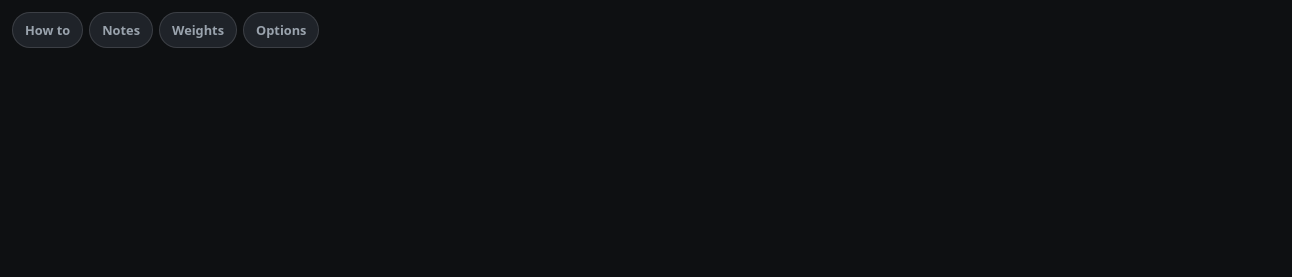
Test: the Plates panel › on a machine on its own says there are no plates to load
Step 1. Click the tab with test id "plates-tab" → click(198, 30), box [159, 12, 237, 48]
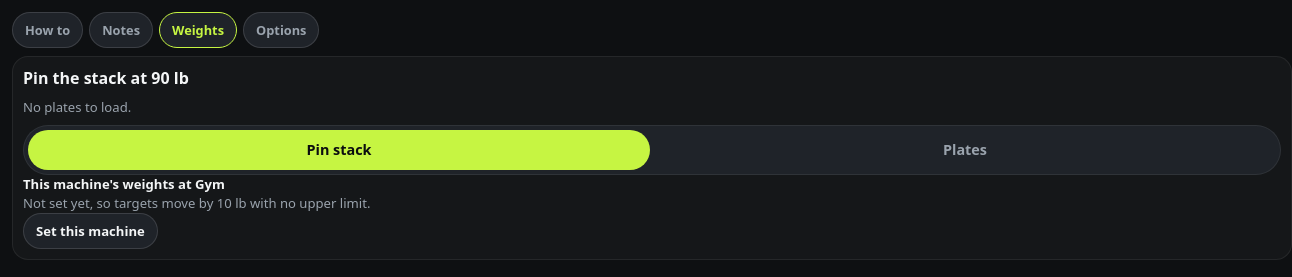
Now the panel with test id "plate-math" shows "No plates to load.", box [23, 98, 131, 116]
